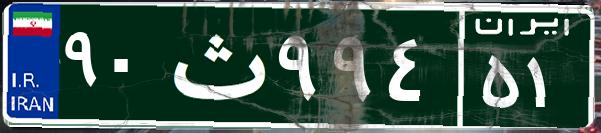0: (110, 28, 158, 105)
1: (525, 38, 570, 115)
4: (385, 28, 445, 110)
5: (475, 38, 525, 113)
9: (273, 28, 330, 110), (330, 28, 385, 110), (57, 26, 110, 107)
ث: (158, 15, 273, 115)
